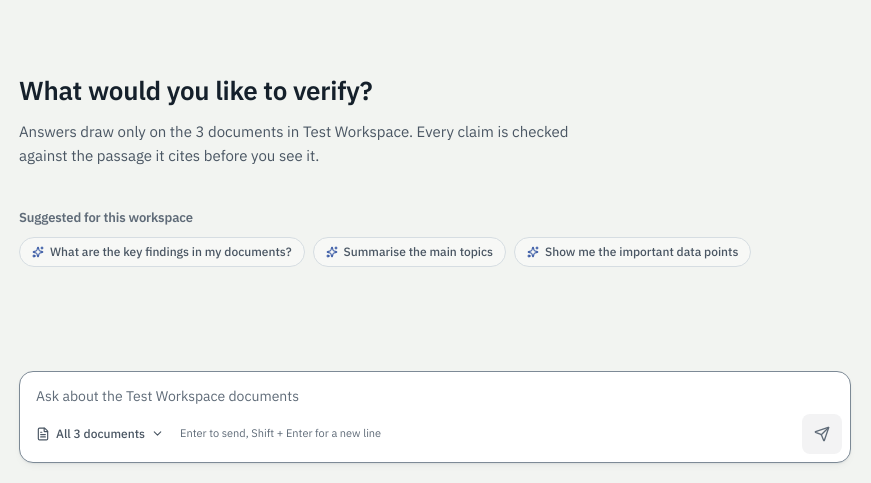
ChatPage › regenerates the turn in place and sends K4 replaces_query_id instead of duplicating it (R2-21)
In the text box named "Ask a question about this workspace": (435, 391) [20,372,850,410], type "What was installed capacity?"
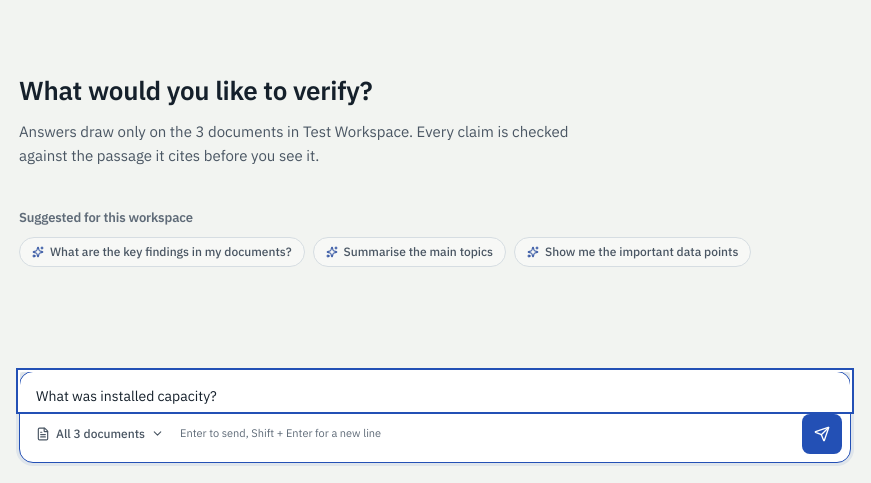
Press Enter
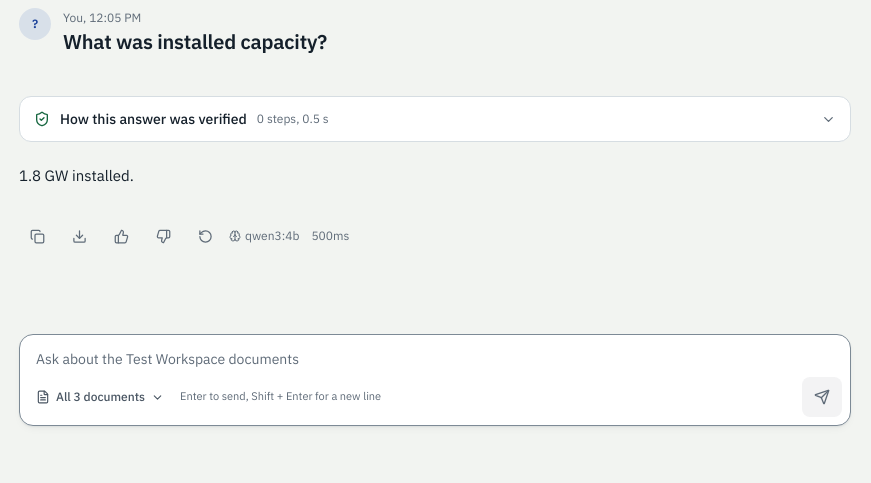
Expected: the number of headings "What was installed capacity?" is 1, [63,28,327,56]
Click the button named "Regenerate with fresh retrieval": (205, 236) [187,218,223,254]
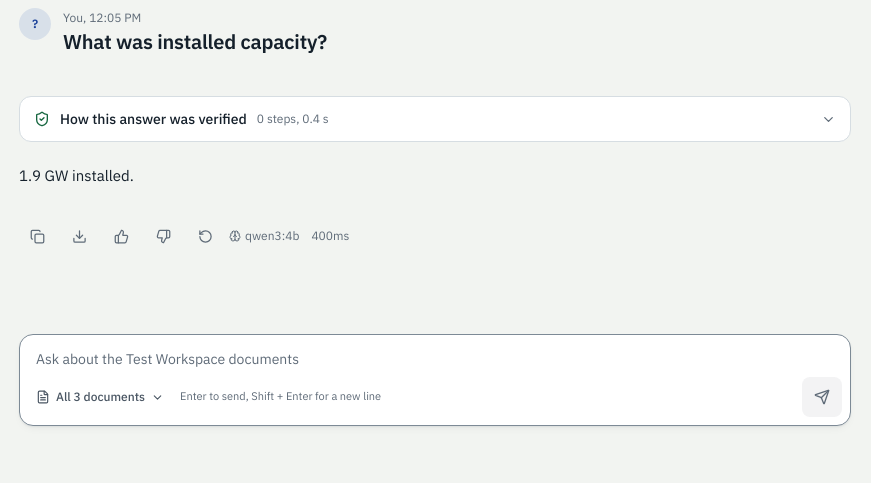
Expected: the number of headings "What was installed capacity?" is 1, [63,28,327,56]
Expected: the text "1.9 GW installed." is shown, [19,166,134,185]
Expected: the text "1.8 GW installed." is gone
